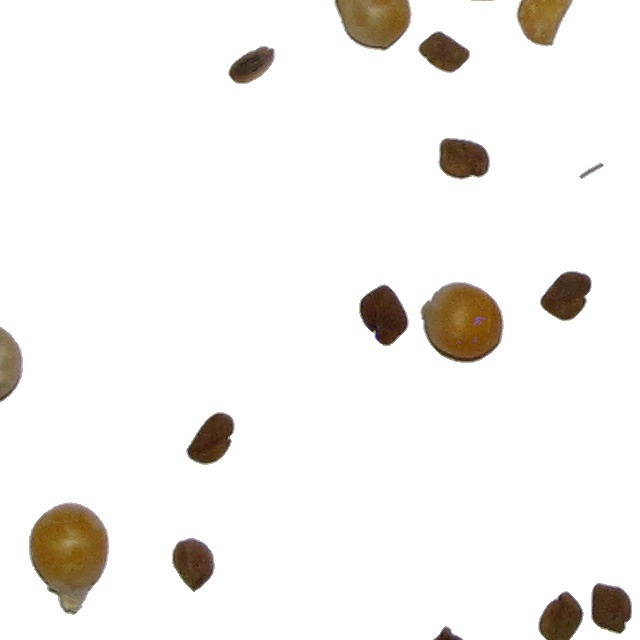buckwheat: (358, 283, 410, 347), (539, 270, 593, 322), (185, 411, 236, 466), (171, 537, 216, 593), (537, 590, 585, 640), (417, 30, 471, 74), (437, 137, 491, 181), (590, 582, 633, 635), (227, 45, 276, 85), (422, 625, 465, 640)
mais: (28, 501, 110, 616), (419, 281, 505, 364)
other: (578, 162, 605, 180)
